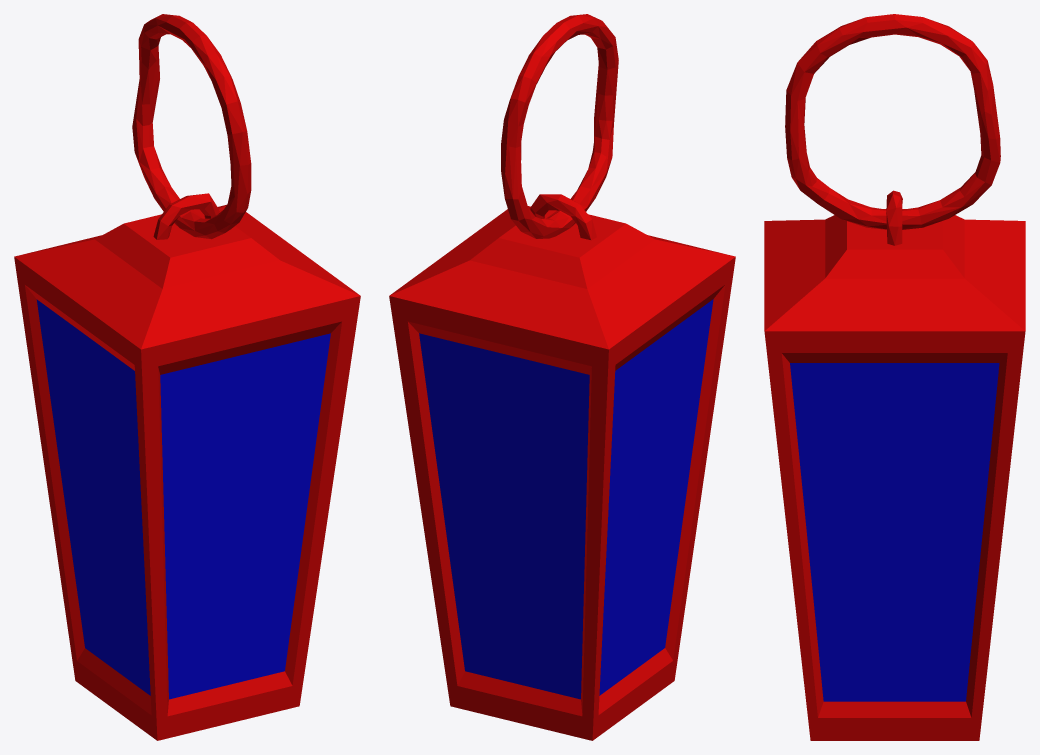
File: lampada_barca.fbx
The picture shows the model from 3 angles, left to right: view 1: azimuth 30°, elevation 25°; view 2: azimuth 150°, elevation 25°; view 3: azimuth 270°, elevation 25°; orthographic projection. The views are drawn at different scales.
Visible parts, largest first — view 1: boat_lamp; view 2: boat_lamp; view 3: boat_lamp.
Part boxes in pixels (box(x1,y1,x2,y2)): boat_lamp: box(14, 14, 360, 740); boat_lamp: box(389, 14, 735, 740); boat_lamp: box(764, 14, 1025, 740).
Size of the model in its own units: 17.26 by 50.36 by 17.26.
